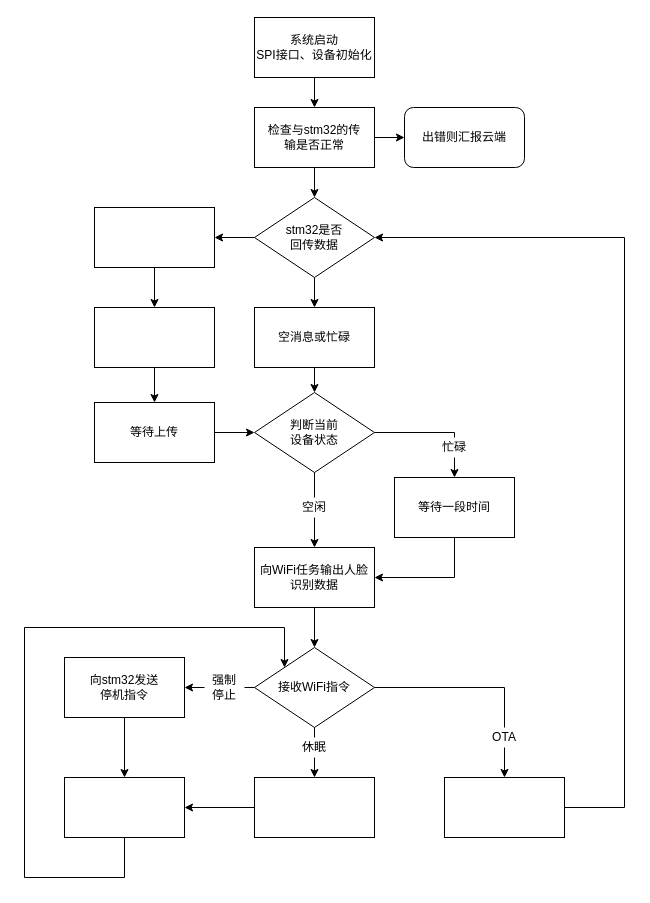
Some shapes in this 650 by 903 pixel diagram are drawn without their labels. The shapes that lost their labels are listed below. From the top down, each one's centre as x and y in pixels, then its label:
pixel 154 237: 已回传数据
pixel 154 337: 接收人脸数据
pixel 124 807: 显示当前已停机
pixel 314 807: 进入休眠模式
pixel 504 807: 执行OTA升级
